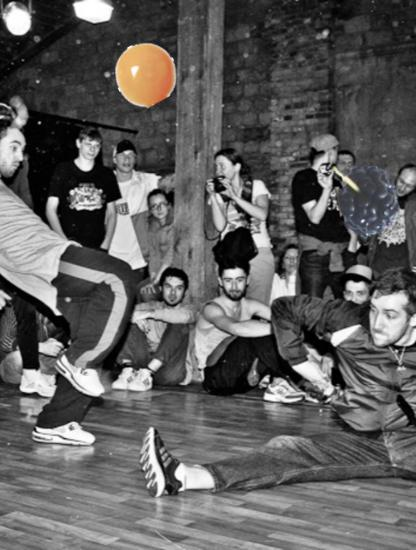Mulberry: (326, 157, 416, 247)
Physalis: (114, 42, 178, 106)
